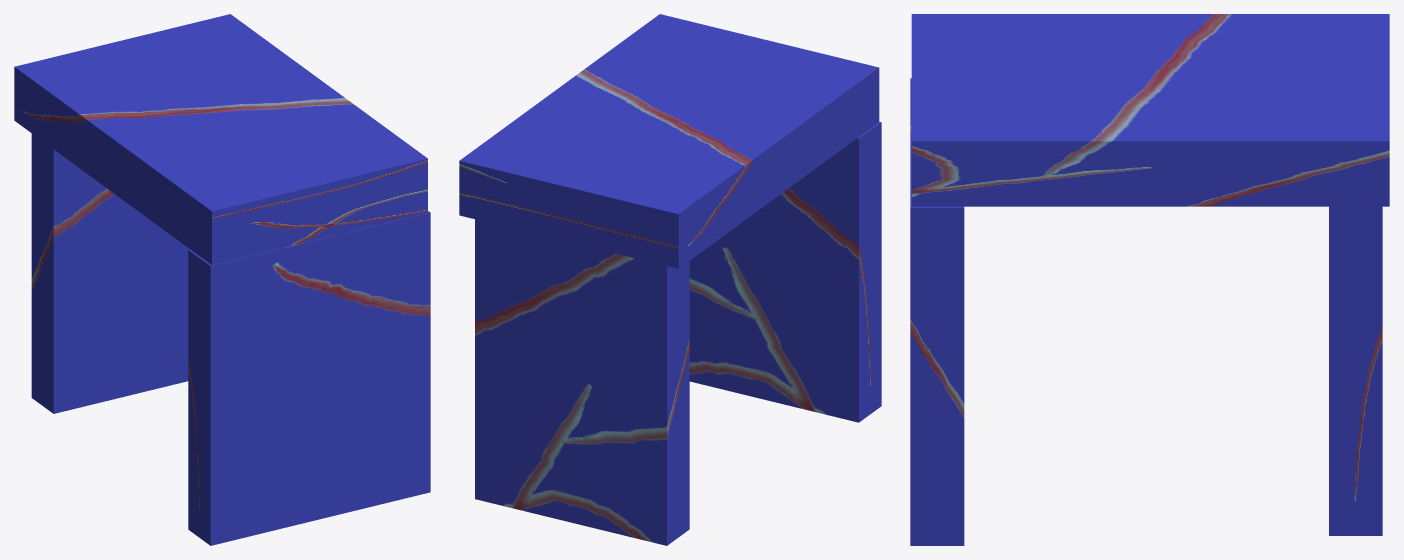
Rendered from door.obj.
The picture shows the model from 3 angles, left to right: view 1: azimuth 30°, elevation 25°; view 2: azimuth 150°, elevation 25°; view 3: azimuth 270°, elevation 25°; orthographic projection. The views are drawn at different scales.
Visible parts, largest first — view 1: Cube_Cube.001, Cube.001_Cube.002, Cube.002_Cube.003; view 2: Cube.001_Cube.002, Cube.002_Cube.003, Cube_Cube.001; view 3: Cube.001_Cube.002, Cube_Cube.001, Cube.002_Cube.003.
Part boxes in pixels (bbox=[...]): Cube_Cube.001: bbox=[188, 211, 430, 545]; Cube.001_Cube.002: bbox=[14, 14, 427, 265]; Cube.002_Cube.003: bbox=[31, 133, 189, 413]; Cube.001_Cube.002: bbox=[459, 14, 879, 268]; Cube.002_Cube.003: bbox=[475, 219, 689, 545]; Cube_Cube.001: bbox=[689, 122, 881, 422]; Cube.001_Cube.002: bbox=[911, 14, 1389, 206]; Cube_Cube.001: bbox=[910, 78, 964, 545]; Cube.002_Cube.003: bbox=[1329, 206, 1382, 535].
Bounding box in the file's own units: 6.25 × 9.06 × 9.75.
Materials: 1 (1 with a texture image).
